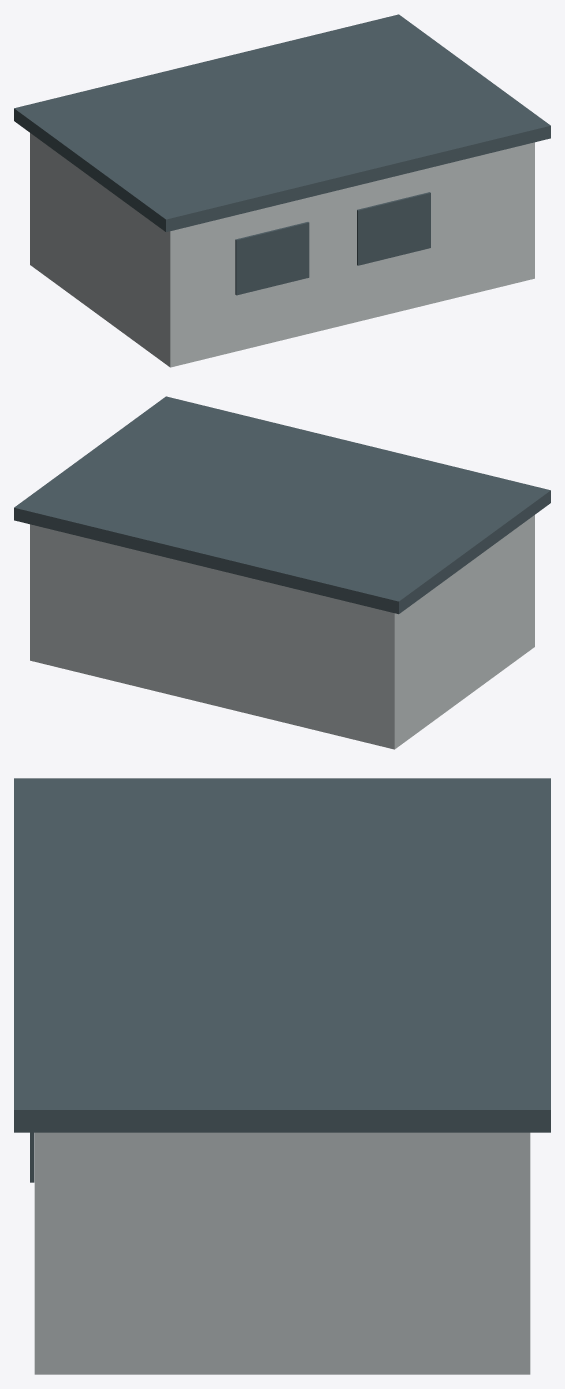
The model's file is office.glb.
3 views of the same model, one above another, from view 1: azimuth 30°, elevation 25°; view 2: azimuth 150°, elevation 25°; view 3: azimuth 270°, elevation 25° (orthographic). The views are drawn at different scales.
Visible parts, largest first — view 1: office; view 2: office; view 3: office.
Part boxes in pixels (x1,y1,x2,y2): office: (14, 14, 550, 367); office: (14, 396, 550, 749); office: (14, 778, 550, 1374).
Size of the model in its own units: 9.5 by 3.65 by 6.5.
